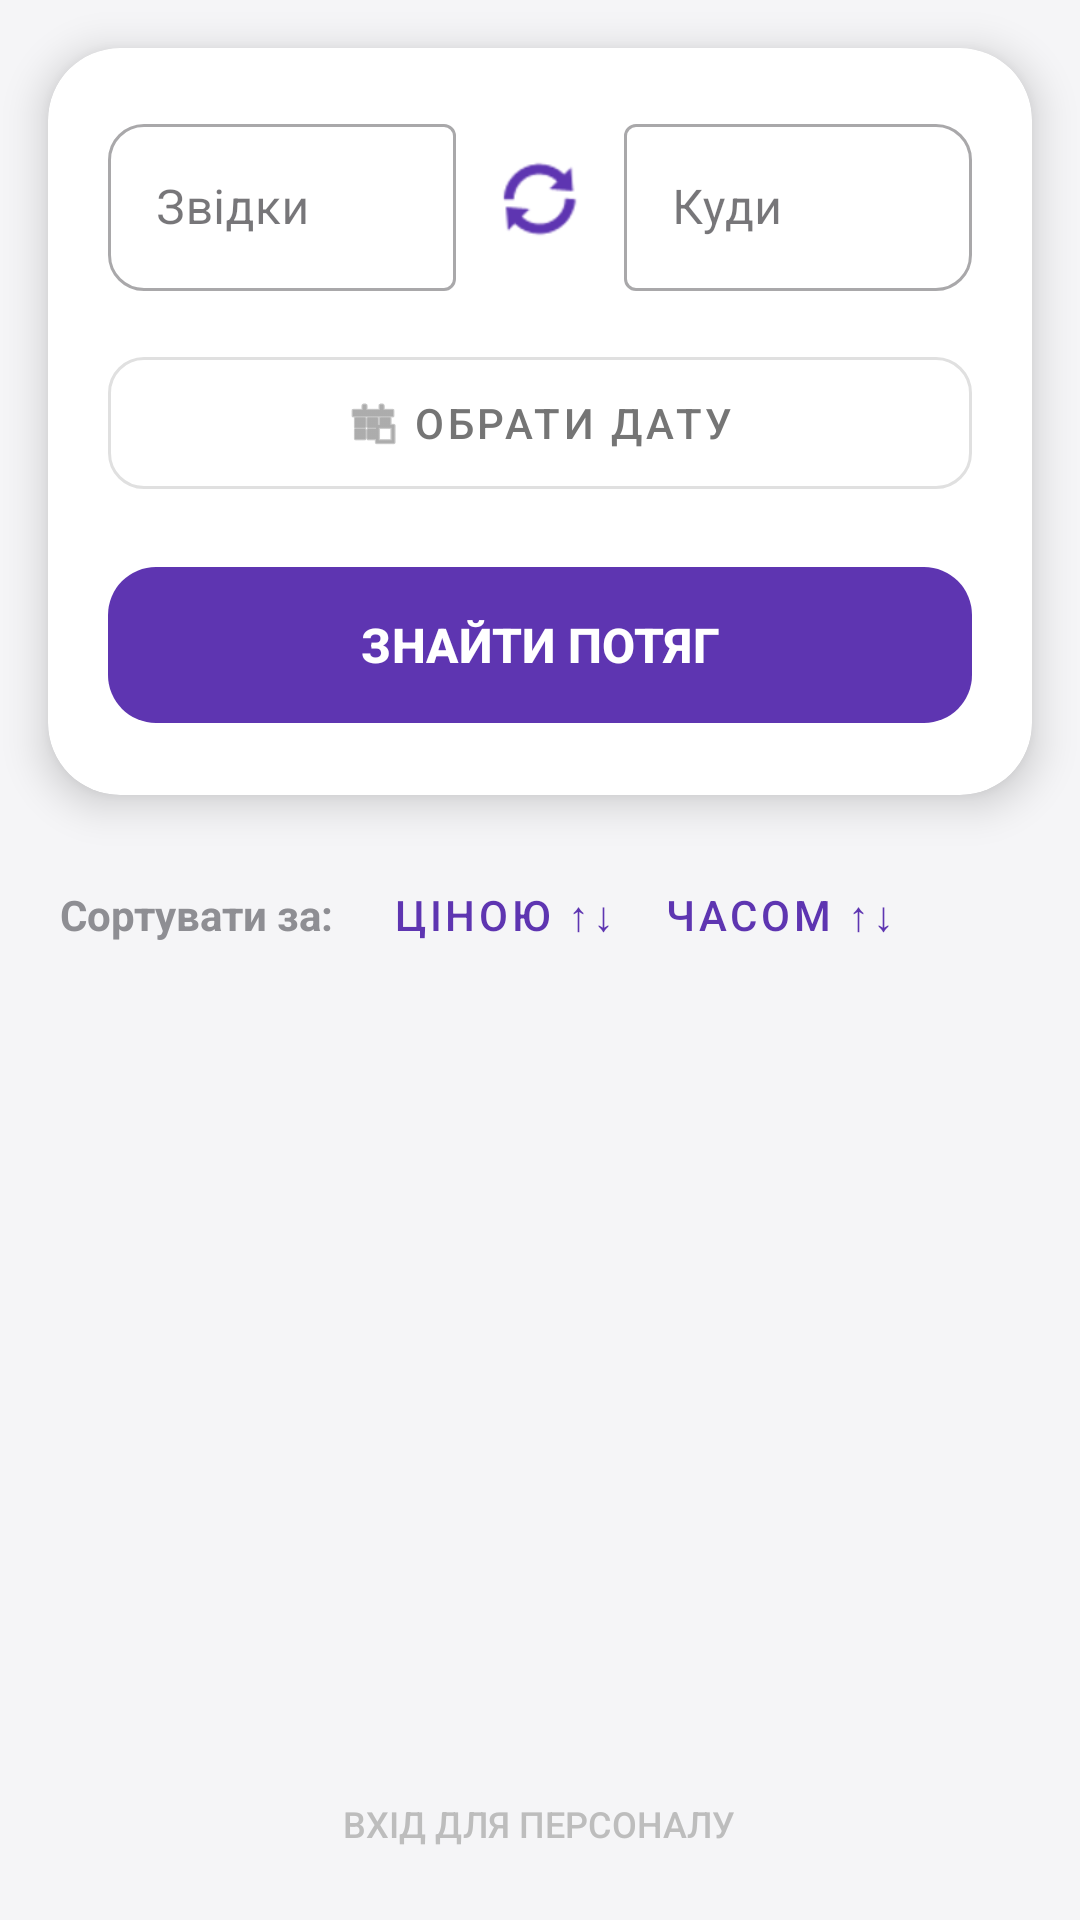

Icons on this 1080px×1920px Android screen, each with the point to tap as (x=x, y=y):
popup sync: (x=540, y=199)
